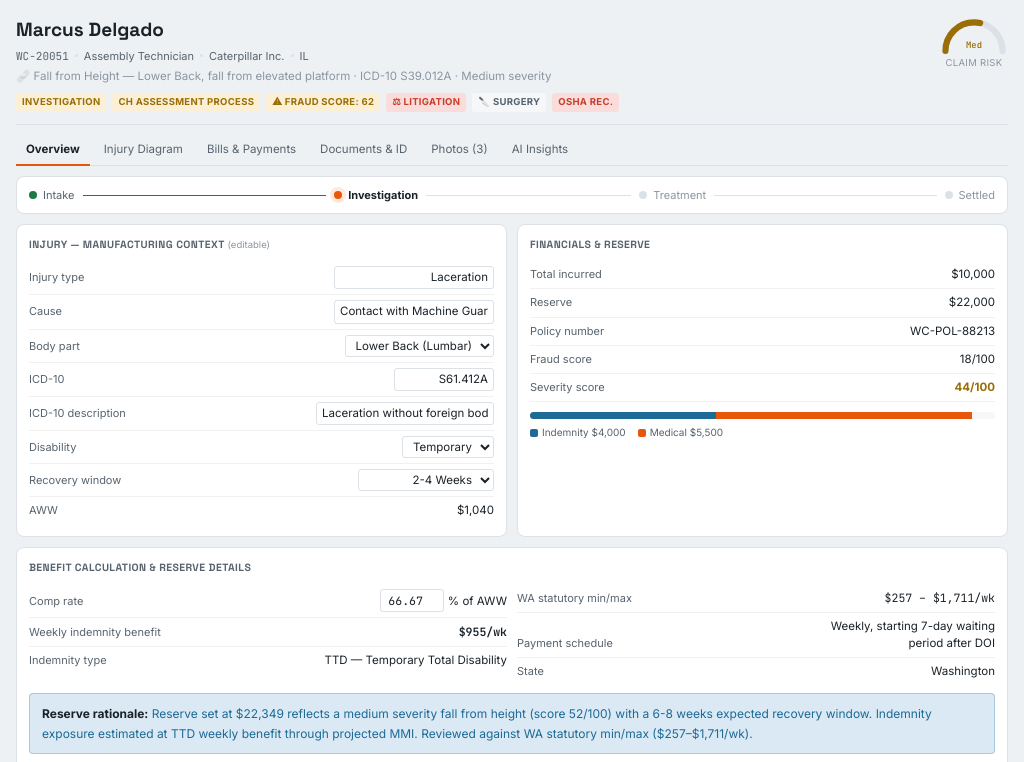
Test: every field is disabled while a commit is in flight
Step 1. Replace the text in the field with test id "edit-cause" with "First Edit" → coordinates (414, 312), box [334, 300, 494, 324]
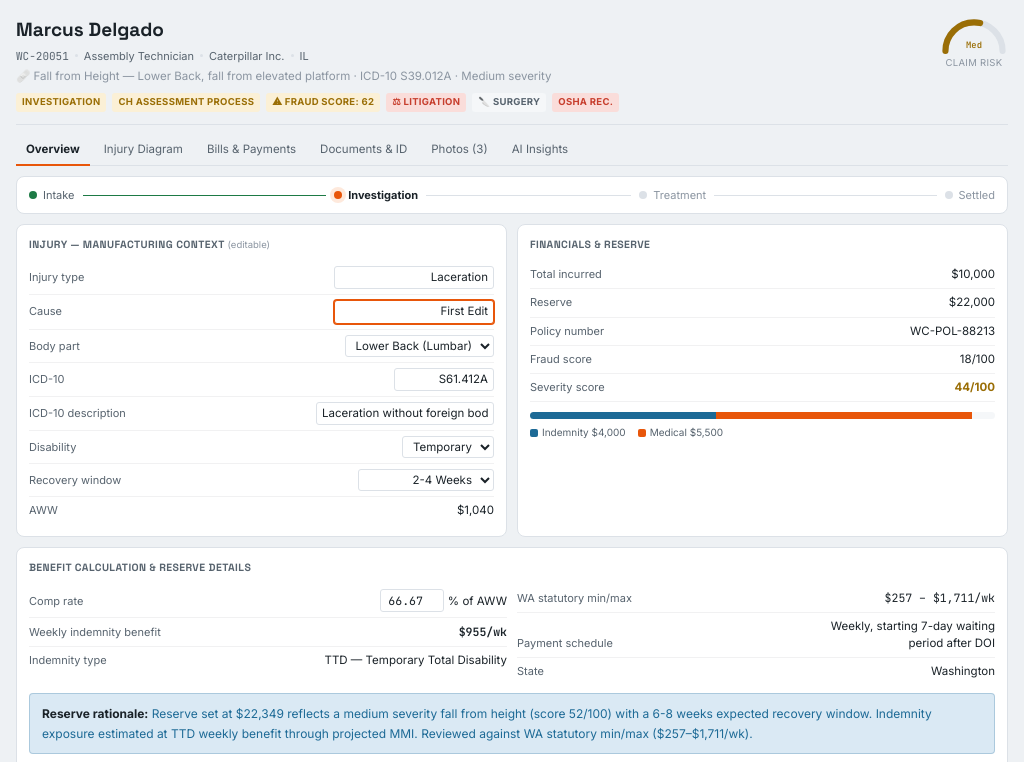
Step 2. Press Tab
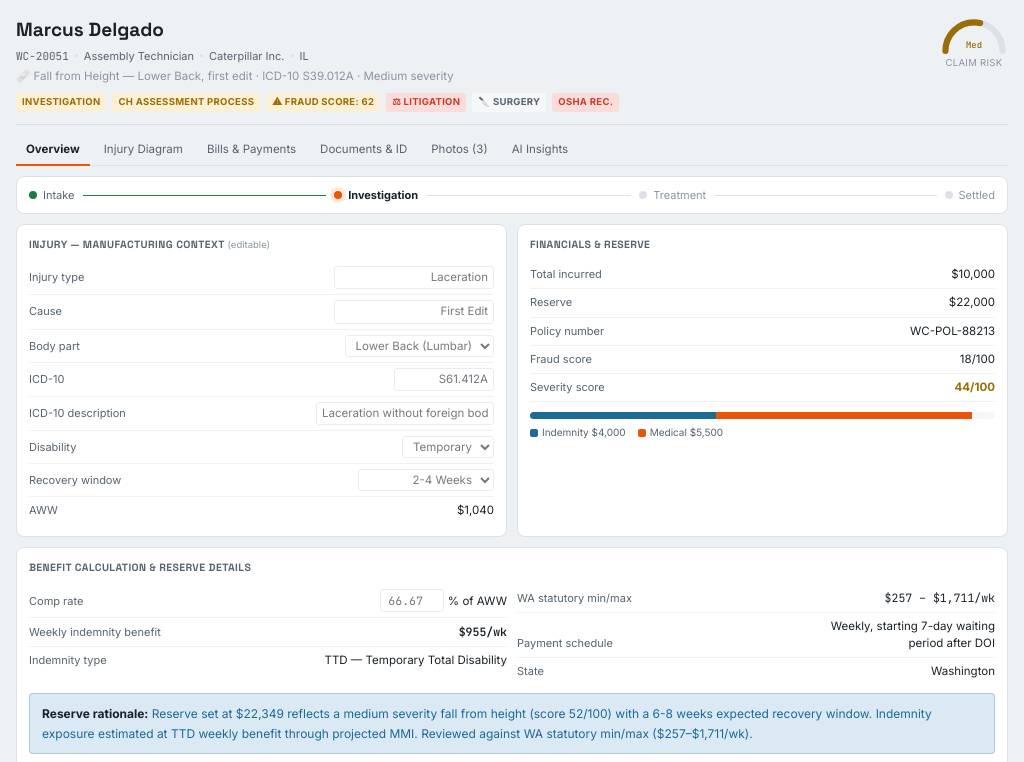
Now the dropdown with test id "edit-recovery" is disabled, box [358, 469, 494, 491]
Now the field with test id "edit-cause" is disabled, box [334, 300, 494, 324]
Now the field with test id "edit-icd" is disabled, box [394, 368, 494, 391]
